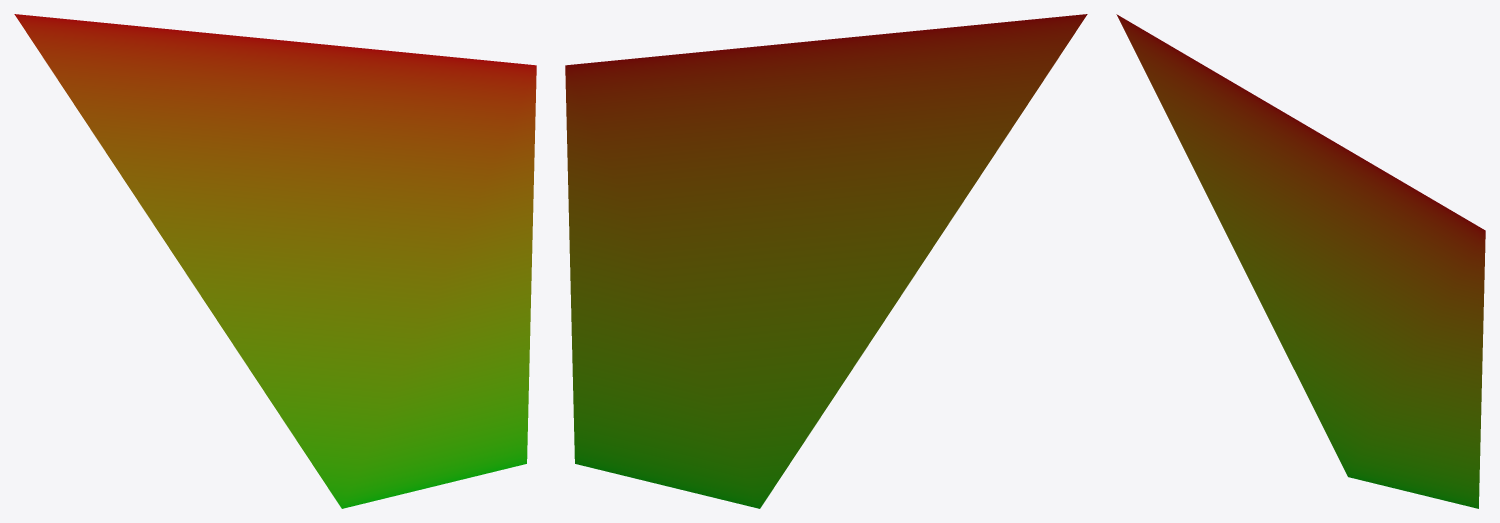
Rendered from Var6_LOD5.fbx.
3 renders of one model, left to right at view 1: azimuth 30°, elevation 25°; view 2: azimuth 150°, elevation 25°; view 3: azimuth 330°, elevation 25°, orthographic. The views are drawn at different scales.
Visible parts, largest first — view 1: _ff5b_Var6_LOD5; view 2: _ff5b_Var6_LOD5; view 3: _ff5b_Var6_LOD5.
Part boxes in pixels (<box>): _ff5b_Var6_LOD5: <box>14,14,536,508</box>; _ff5b_Var6_LOD5: <box>565,14,1087,508</box>; _ff5b_Var6_LOD5: <box>1116,14,1485,508</box>.
Bounding box in the file's own units: 72.78 × 76.52 × 1.37e-05.
